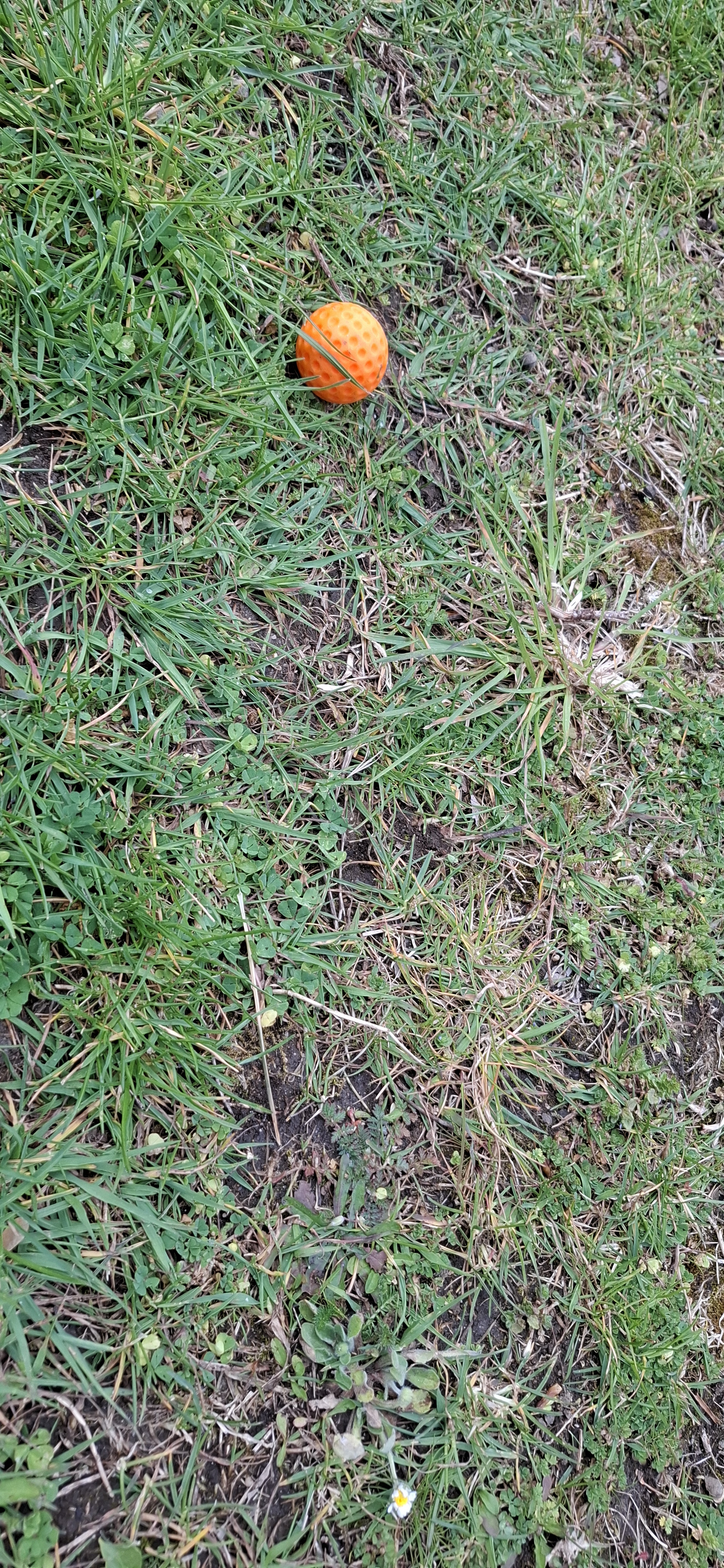ball: (139, 727, 187, 927)
